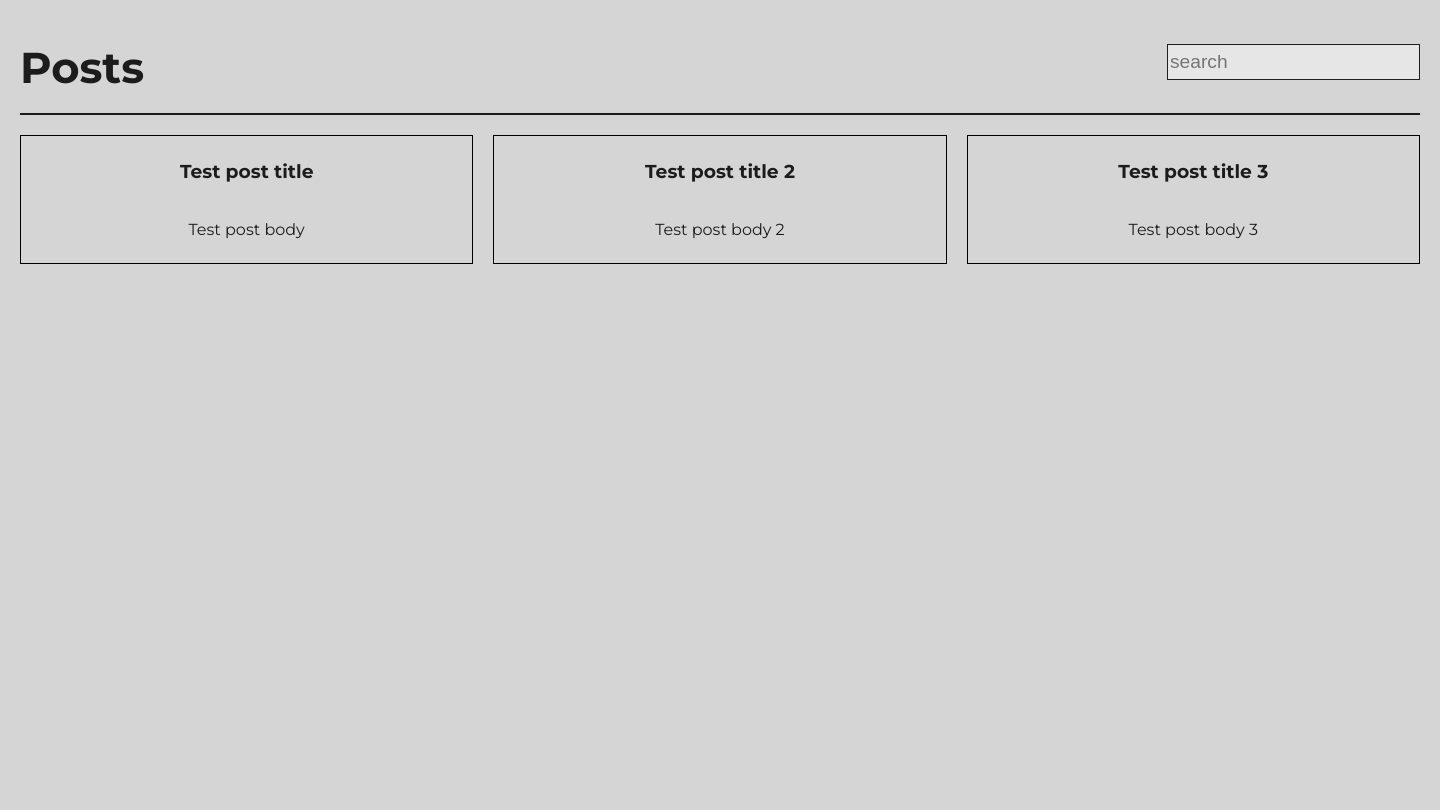
Posts › should show success alert when delete is successful
Click the heading "Test post title". click: (247, 172)
box: [180,160,313,184]
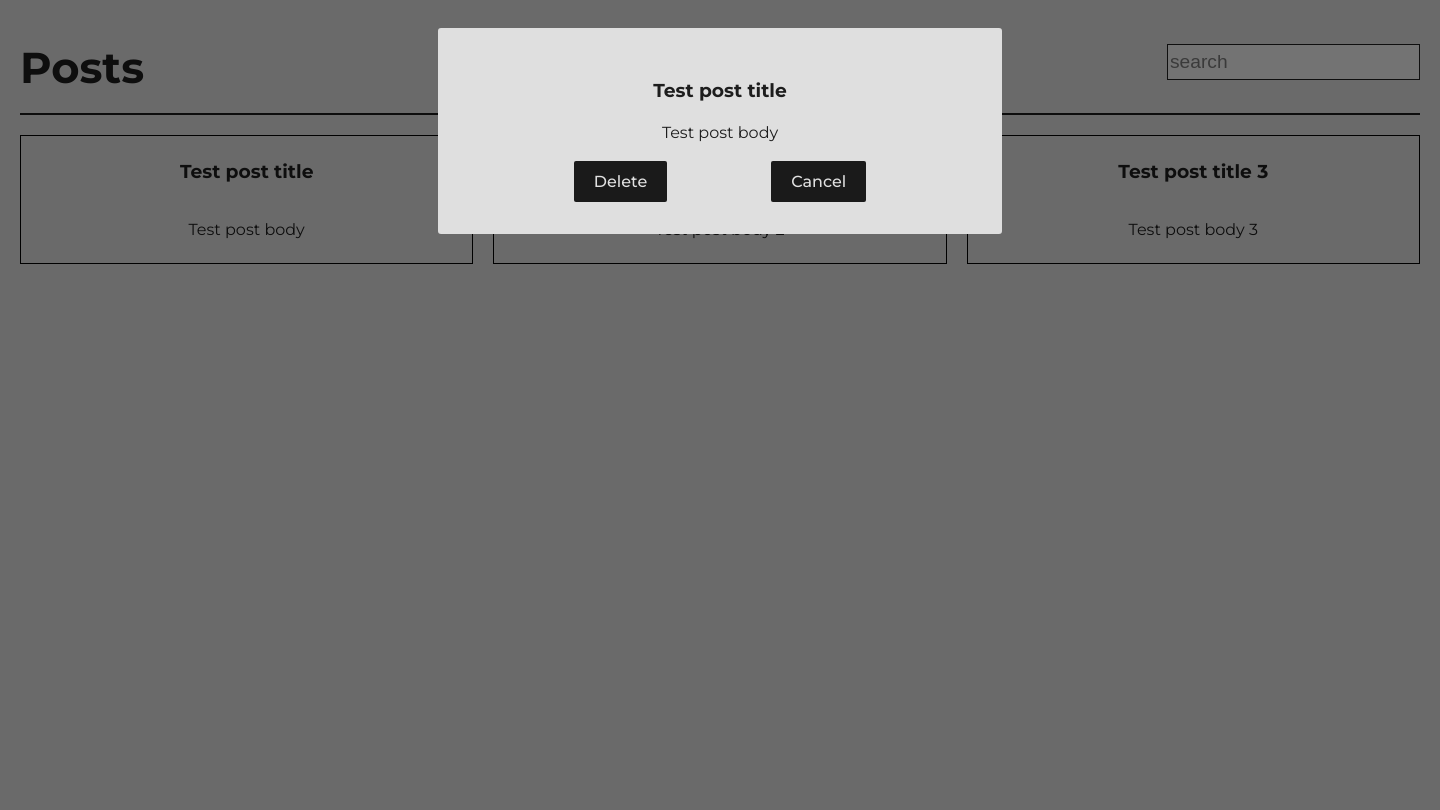
Click the button "Delete". click: (620, 182)
box: [574,161,667,202]
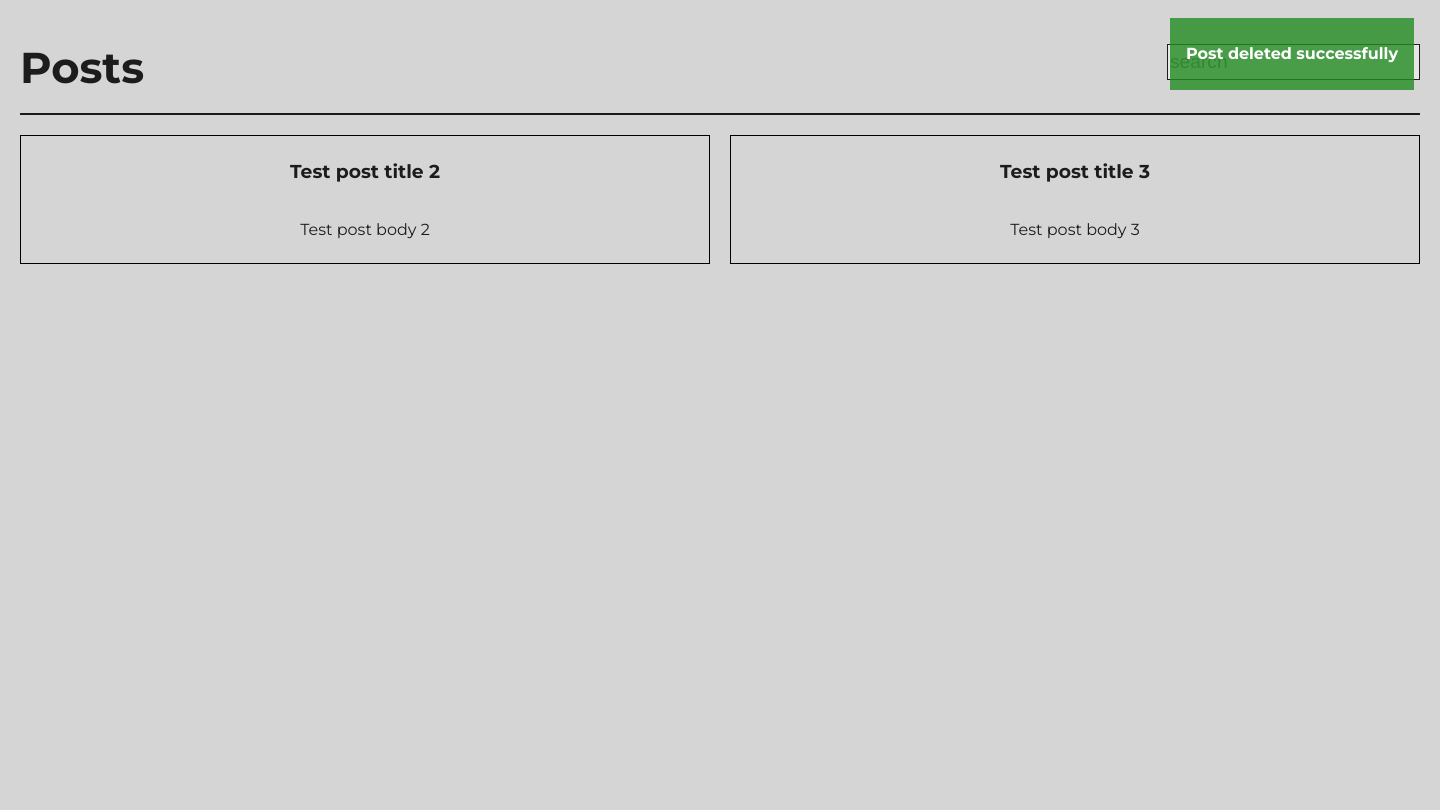
Expected: the text "Post deleted successfully" is shown, [1186,42,1398,66]
